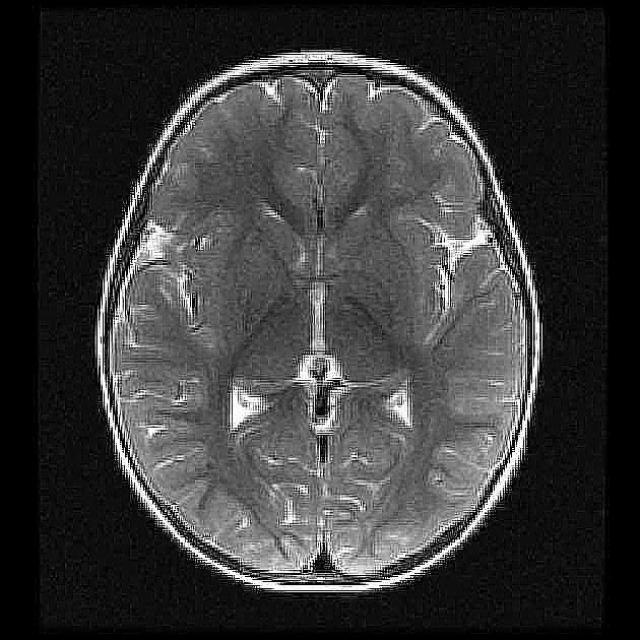notumor: (98, 53, 541, 594)
